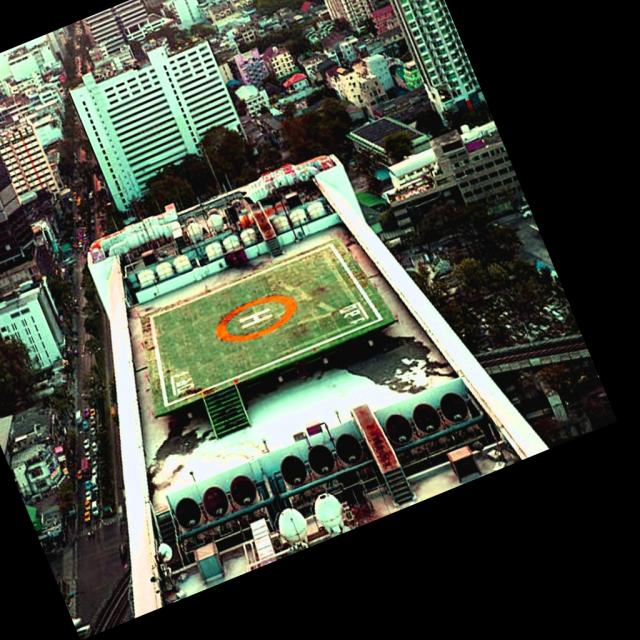helipad: (212, 290, 300, 346)
